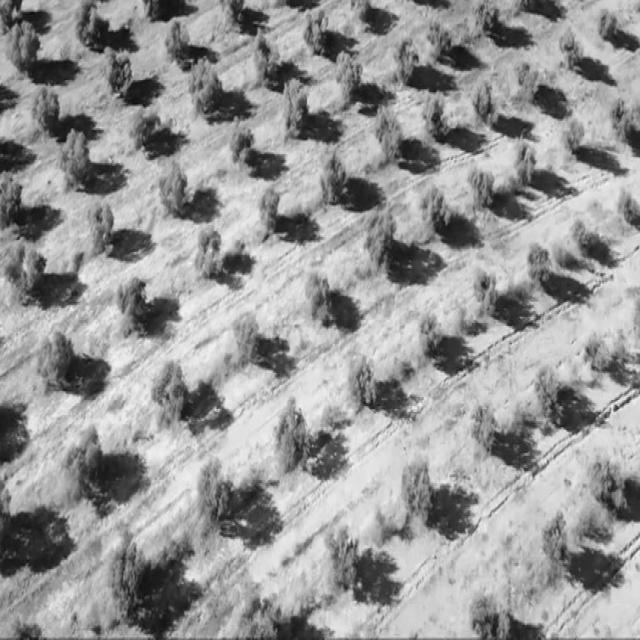trees: (581, 436, 640, 535), (268, 389, 320, 491), (393, 447, 445, 545), (102, 528, 150, 632), (55, 421, 109, 513), (142, 351, 193, 444), (188, 450, 240, 539), (322, 508, 369, 596), (536, 494, 578, 586), (226, 576, 286, 638), (527, 355, 575, 432), (357, 203, 404, 280), (1, 238, 50, 305), (465, 578, 519, 638), (33, 328, 79, 395), (579, 322, 624, 387), (185, 53, 228, 121), (111, 271, 155, 336), (342, 348, 383, 416), (56, 124, 98, 190), (148, 162, 192, 225), (299, 262, 340, 326), (370, 104, 408, 172), (316, 142, 354, 210), (1, 18, 44, 78), (466, 395, 506, 459), (277, 74, 315, 141), (101, 45, 143, 105), (80, 197, 120, 259), (524, 236, 564, 298), (226, 308, 264, 372), (249, 26, 287, 89), (192, 220, 228, 286), (27, 82, 67, 141), (418, 183, 457, 243), (468, 262, 507, 322), (411, 308, 448, 370), (332, 48, 368, 110), (468, 76, 504, 136), (126, 102, 163, 160), (420, 88, 455, 148), (608, 91, 640, 156), (69, 0, 112, 48), (297, 4, 334, 59), (464, 160, 498, 219), (227, 117, 262, 174), (0, 169, 27, 240), (508, 56, 544, 109), (390, 30, 421, 91), (255, 183, 287, 242), (557, 114, 591, 166), (512, 135, 543, 191), (422, 13, 456, 64), (555, 24, 587, 76), (163, 17, 195, 68), (470, 0, 505, 42), (566, 210, 596, 258), (593, 3, 624, 46)
